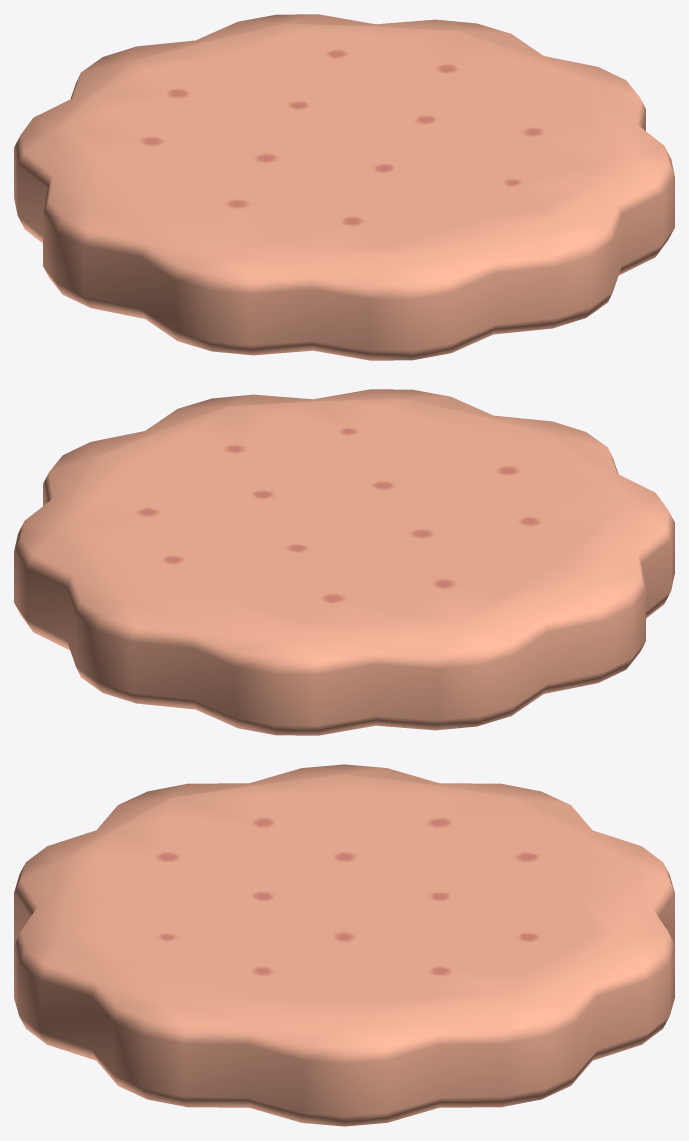
Rendered from Bisket.fbx.
3 views of the same model, one above another, from view 1: azimuth 30°, elevation 25°; view 2: azimuth 150°, elevation 25°; view 3: azimuth 270°, elevation 25° (orthographic). The views are drawn at different scales.
Parts seen in each view (by area): view 1: Bisket; view 2: Bisket; view 3: Bisket.
Boxes of the visible parts, left/top/right/bottom form: Bisket: left=14, top=14, right=674, bottom=360; Bisket: left=14, top=389, right=674, bottom=735; Bisket: left=14, top=764, right=674, bottom=1126.
Bounding box in the file's own units: 211 × 33.54 × 204.
